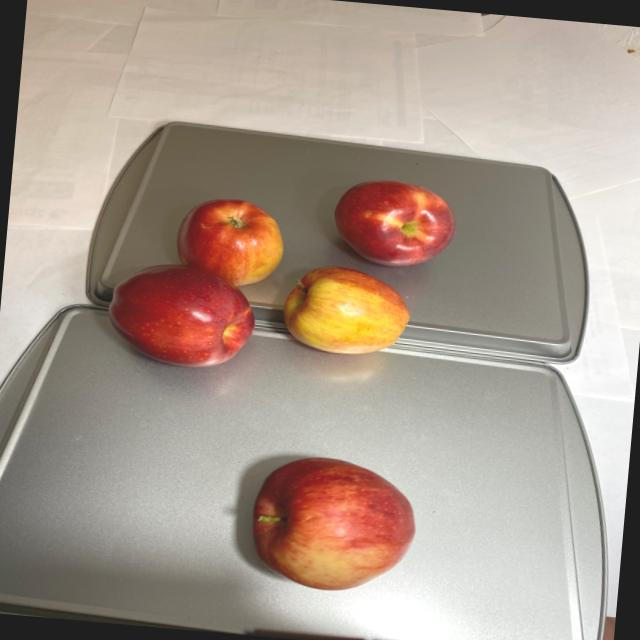apple: (100, 156, 461, 390), (245, 451, 425, 598)
